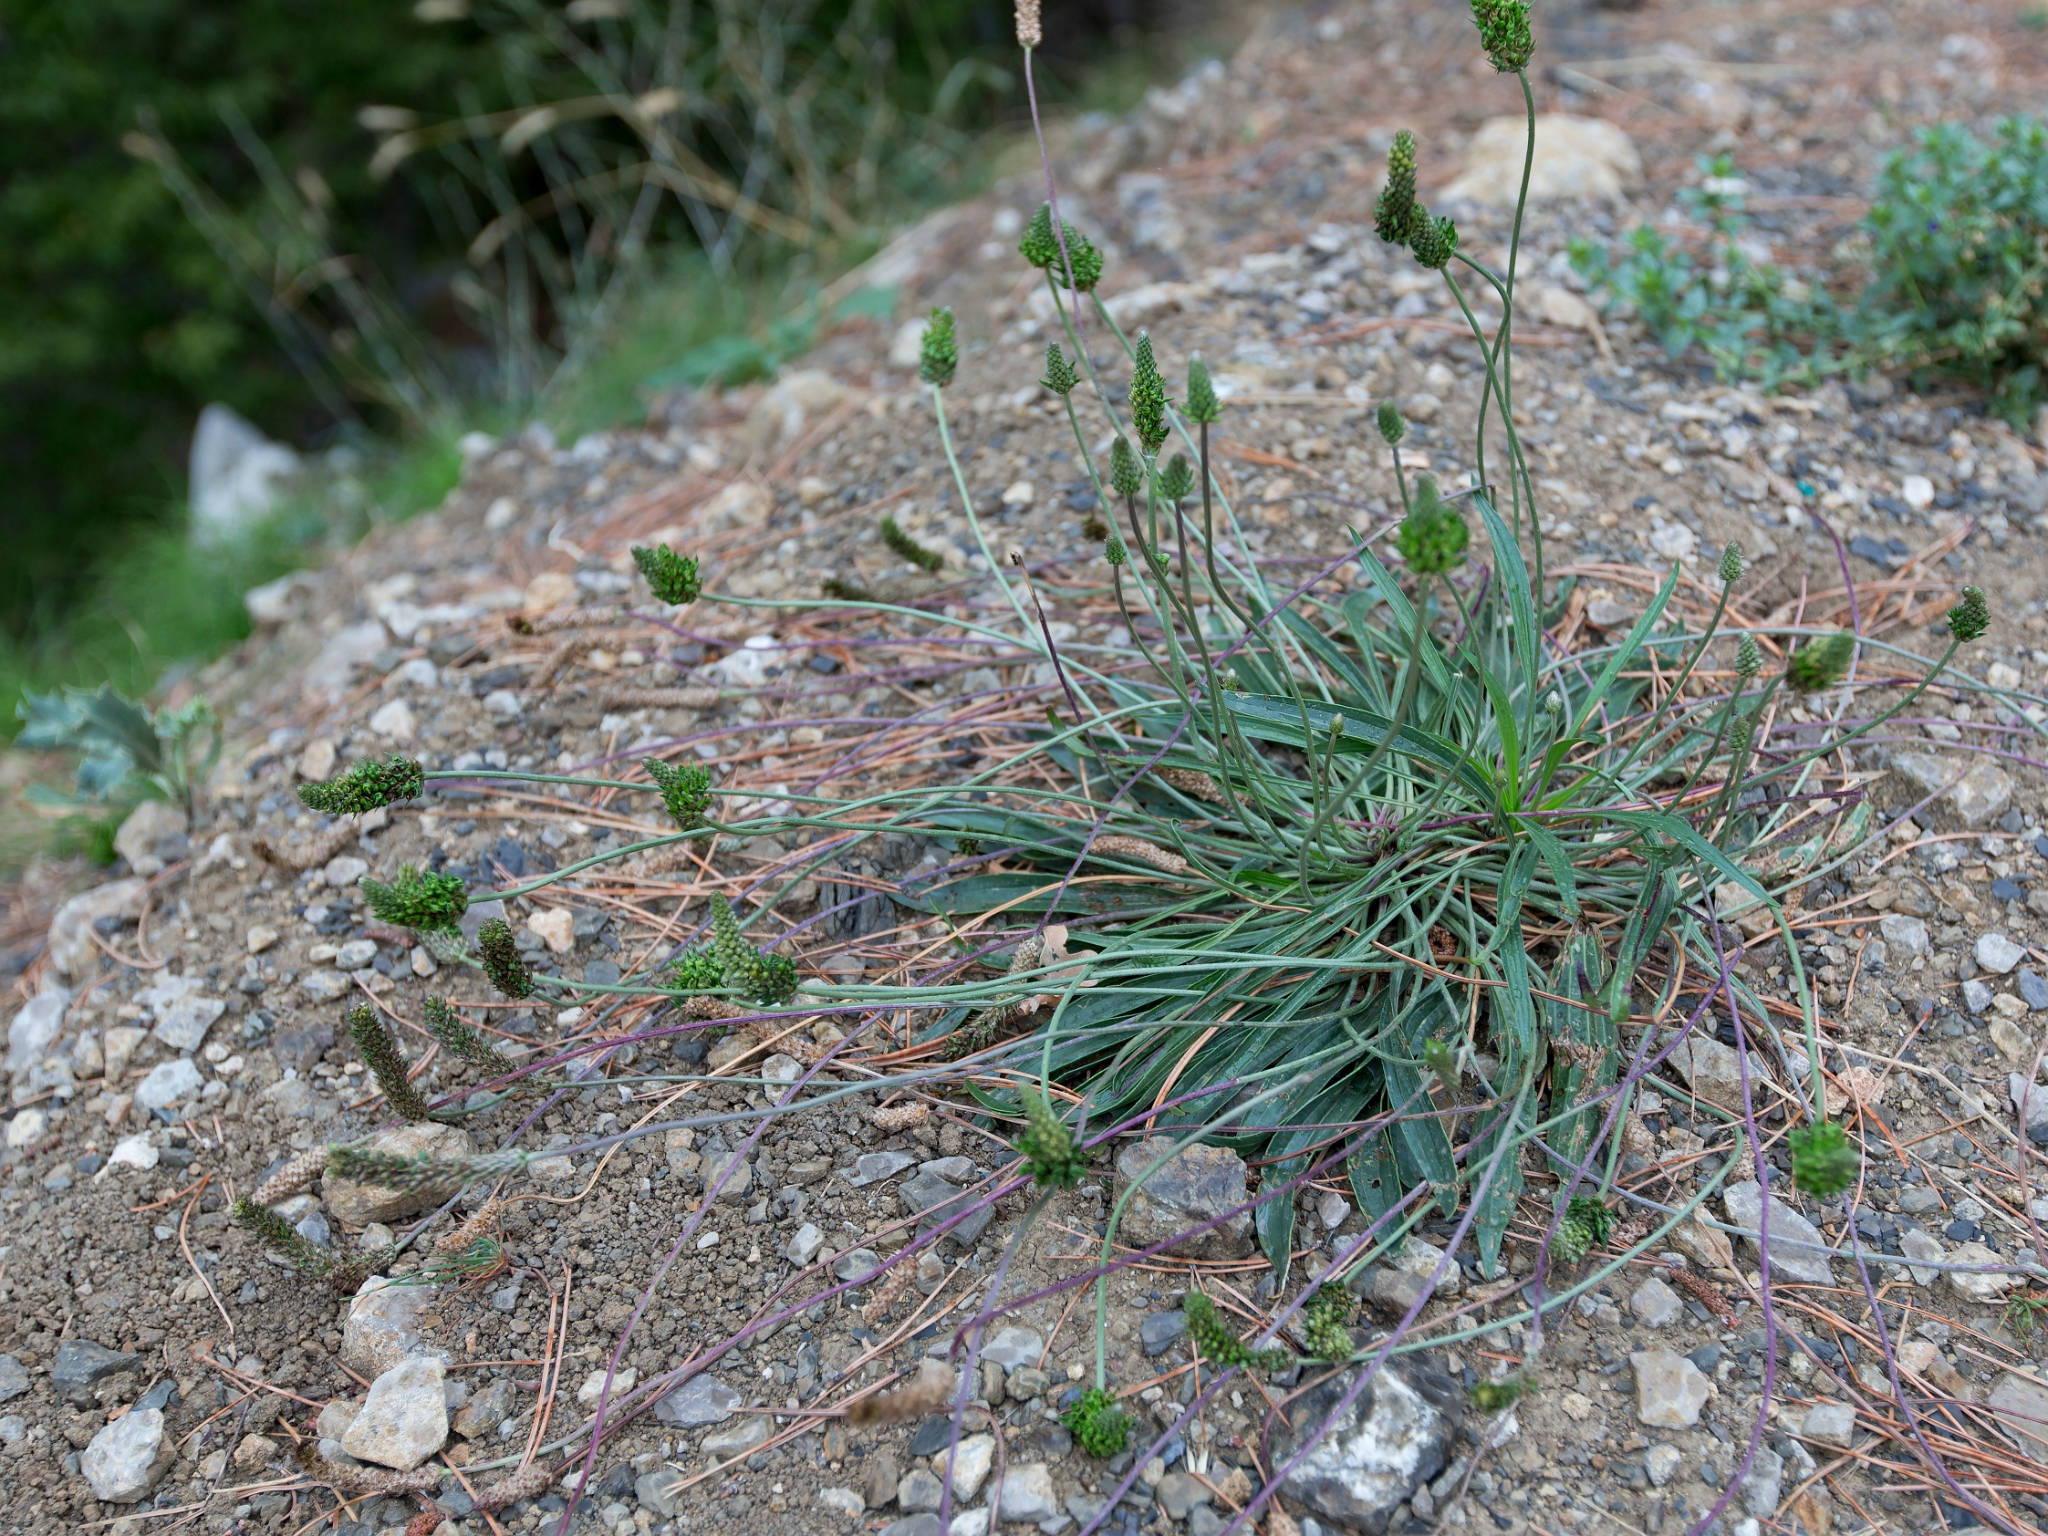buckhorn plantain: (369, 31, 1872, 1236)
